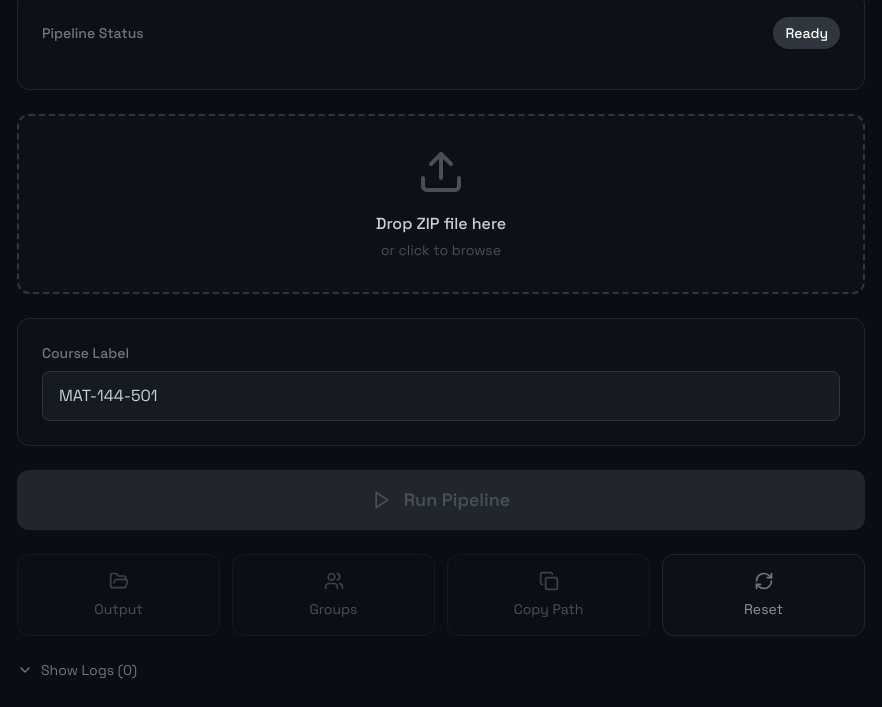
Scenario: App Component › Logs Section › toggles logs visibility
(page scrolled)
# Click to show logs
What coordinates should you click on to do the following:
click the button "Show Logs (0)"
I would click on:
 (77, 670)
Its box is [17,660,137,680].
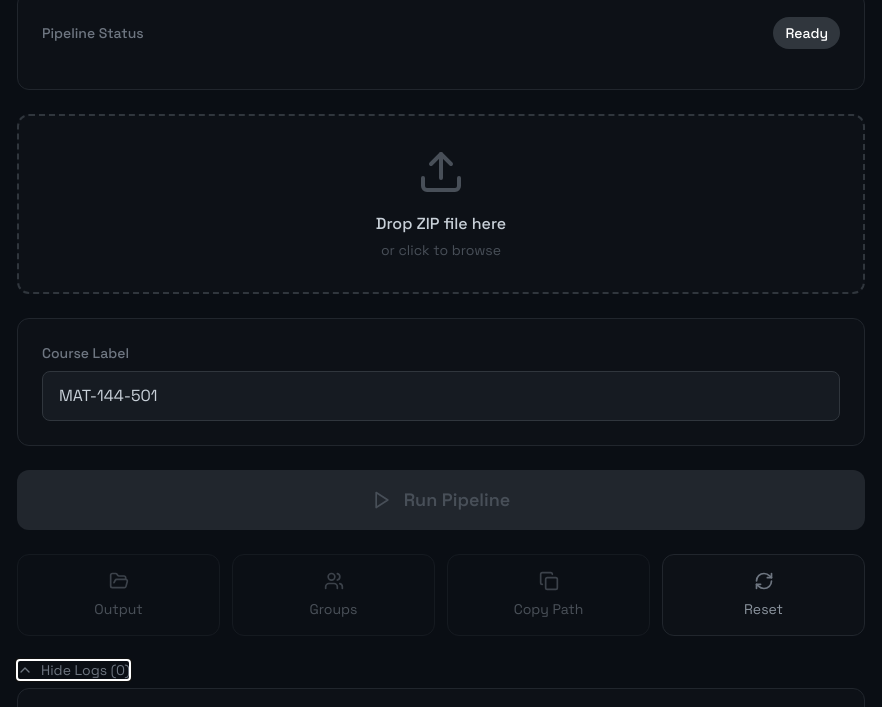
Check: the button "Hide Logs (0)" is shown, box [17,660,130,680]
